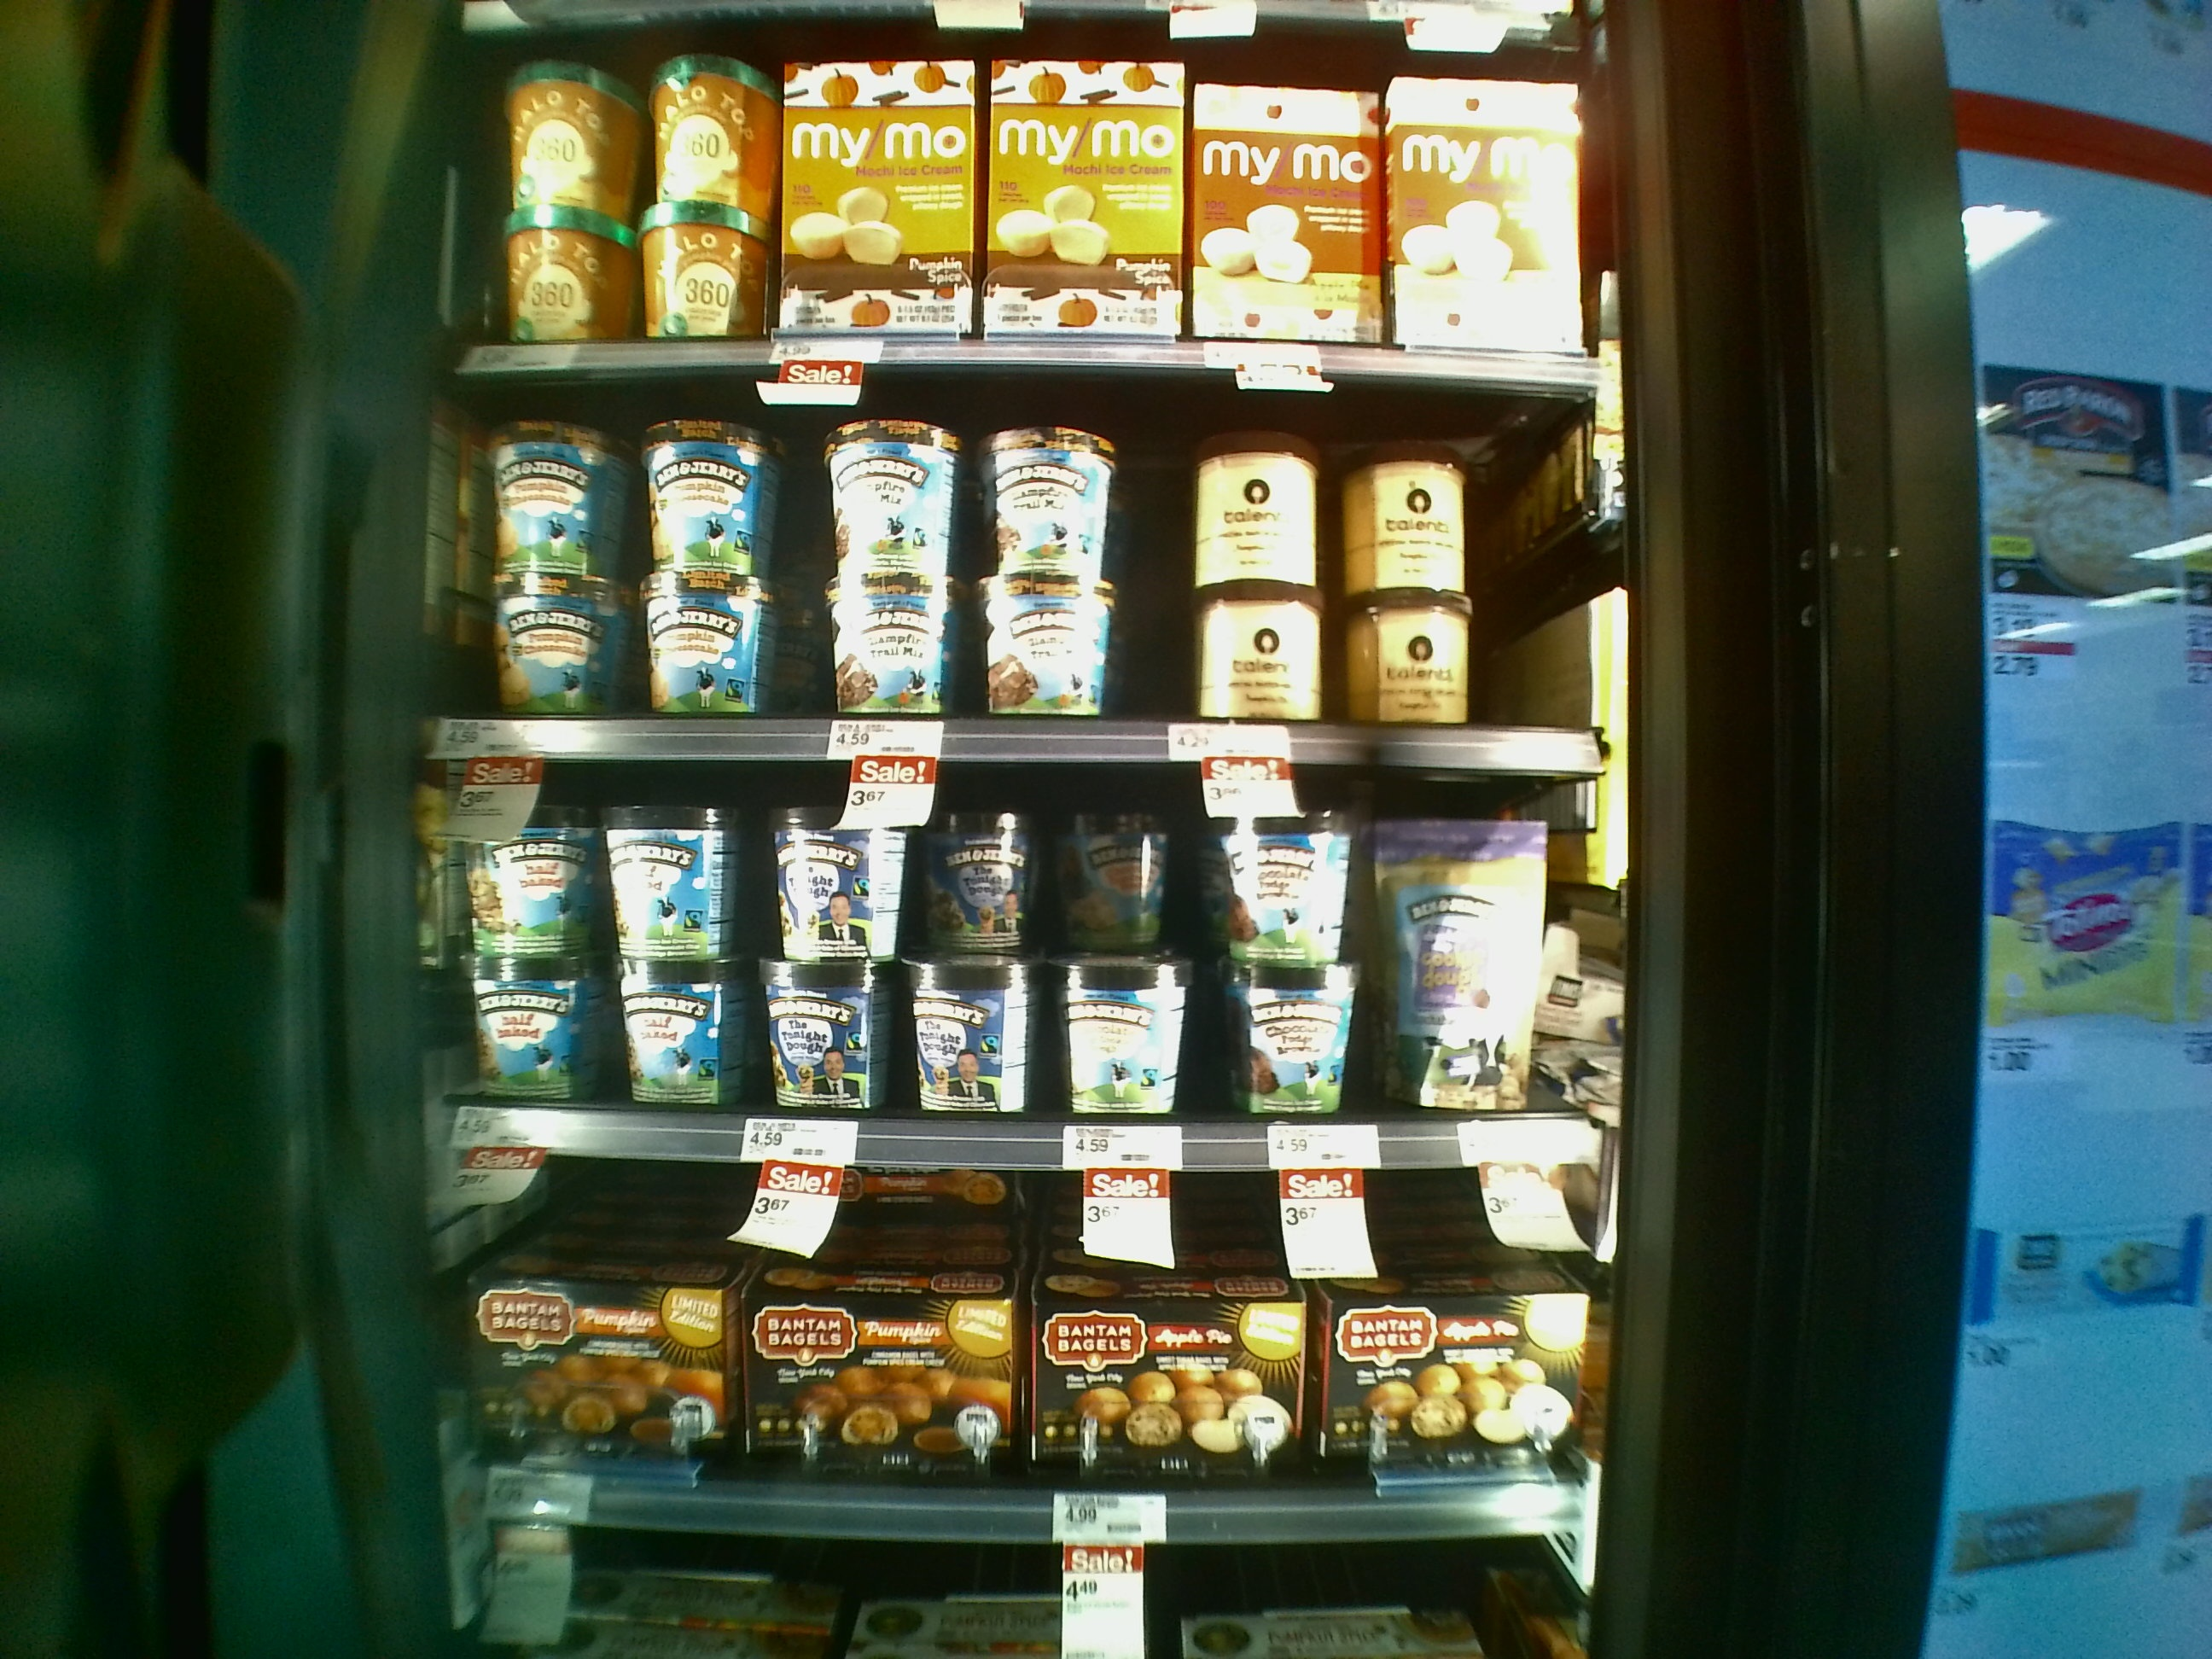shelf: (402, 721, 1622, 1175), (404, 1110, 1609, 1535), (455, 364, 1620, 774)
